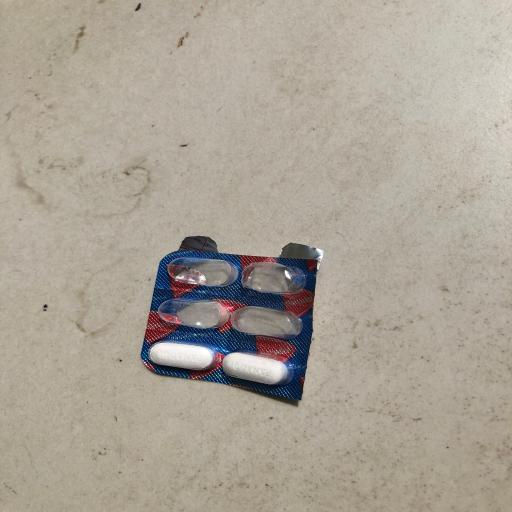waste: (130, 216, 336, 411)
